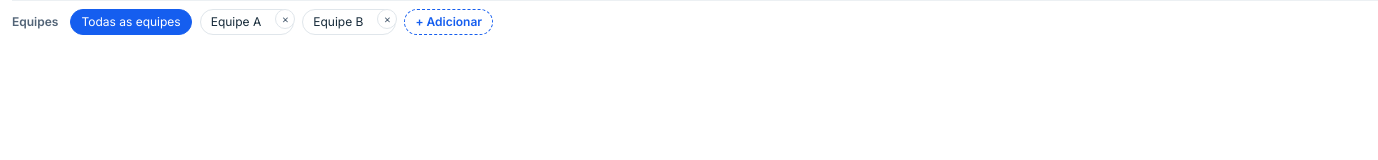
balões simples da apresentação › keeps every team in the same position after choosing several
The image size is (1378, 160).
Click the button with aria-label "Selecionar equipe Equipe A" at (237,22), box x1=201 y1=10 x2=273 y2=34
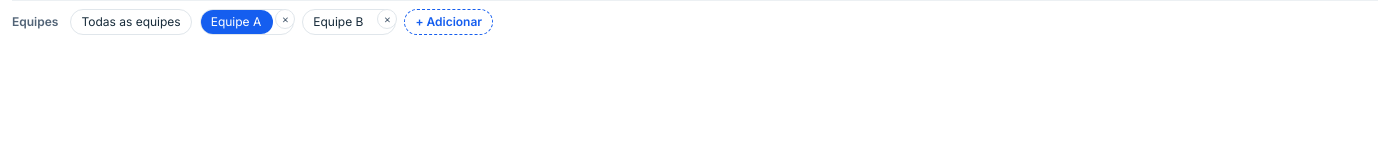
Expected: the button with aria-label "Retirar equipe Equipe A" is pressed, x1=201 y1=10 x2=273 y2=34
Click the button with aria-label "Selecionar equipe Equipe B" at (339,22), box x1=303 y1=10 x2=375 y2=34
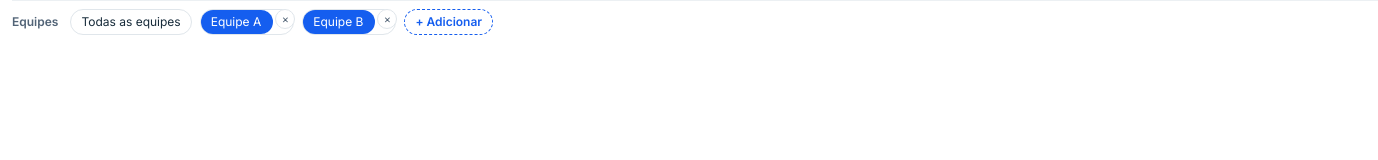
Expected: the button with aria-label "Retirar equipe Equipe A" is shown, x1=201 y1=10 x2=273 y2=34
Expected: the button with aria-label "Retirar equipe Equipe B" is shown, x1=303 y1=10 x2=375 y2=34
Click the button "Todas as equipes" at (131,22), box x1=70 y1=9 x2=192 y2=35
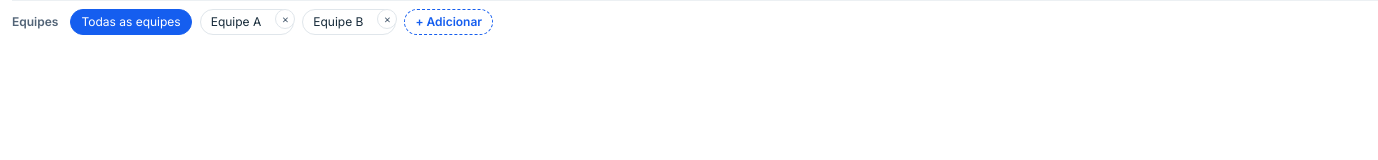
Expected: the button with aria-label "Selecionar equipe Equipe A" is shown, x1=201 y1=10 x2=273 y2=34
